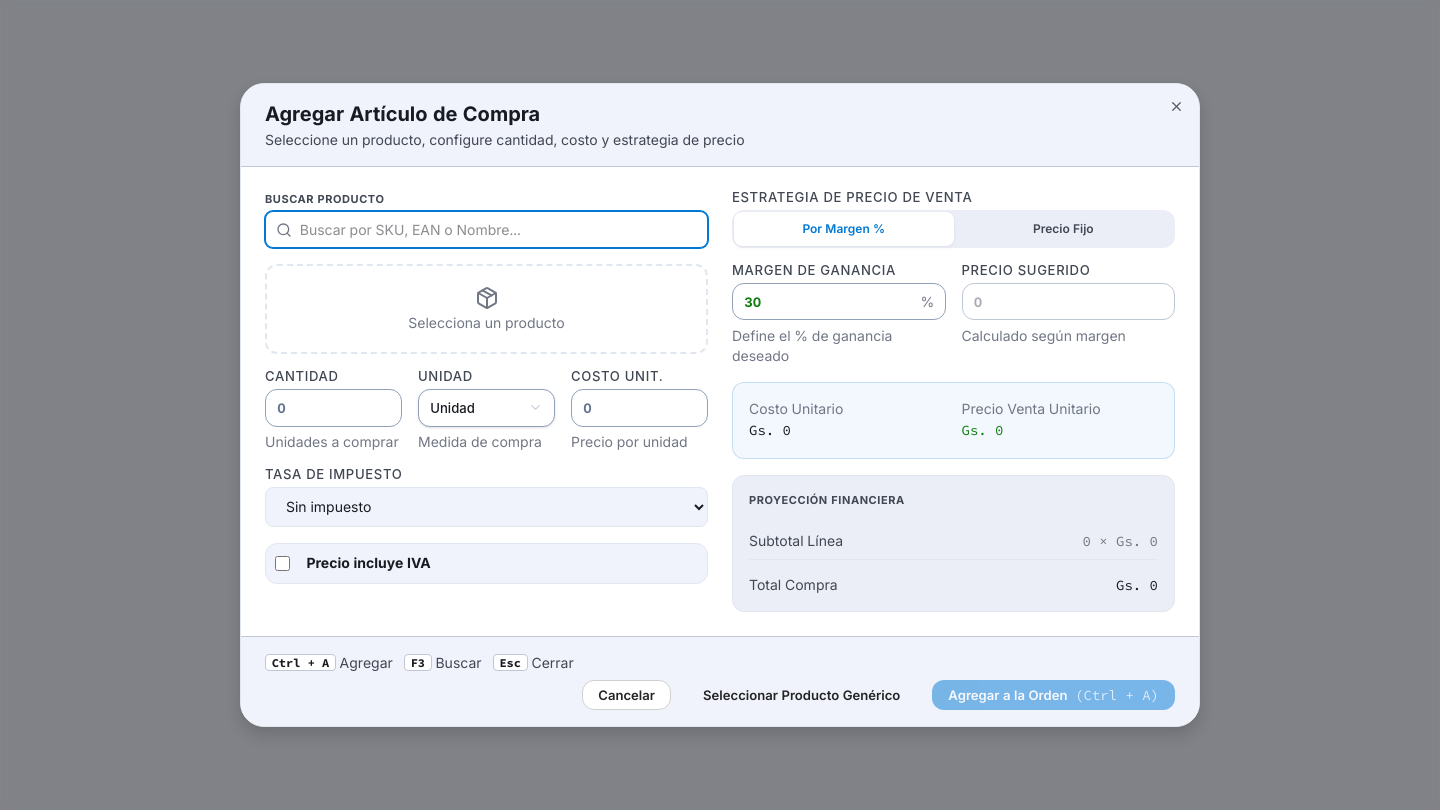
Test case: PurchaseProductModal — formateo de inputs numéricos › cantidad: el punto tecleado es decimal, NO agrupador ("1.5" ≠ 15)
The width and height of the screenshot is (1440, 810).
Type "1" into the field labelled "Cantidad" at [334, 408], box [265, 389, 402, 427]
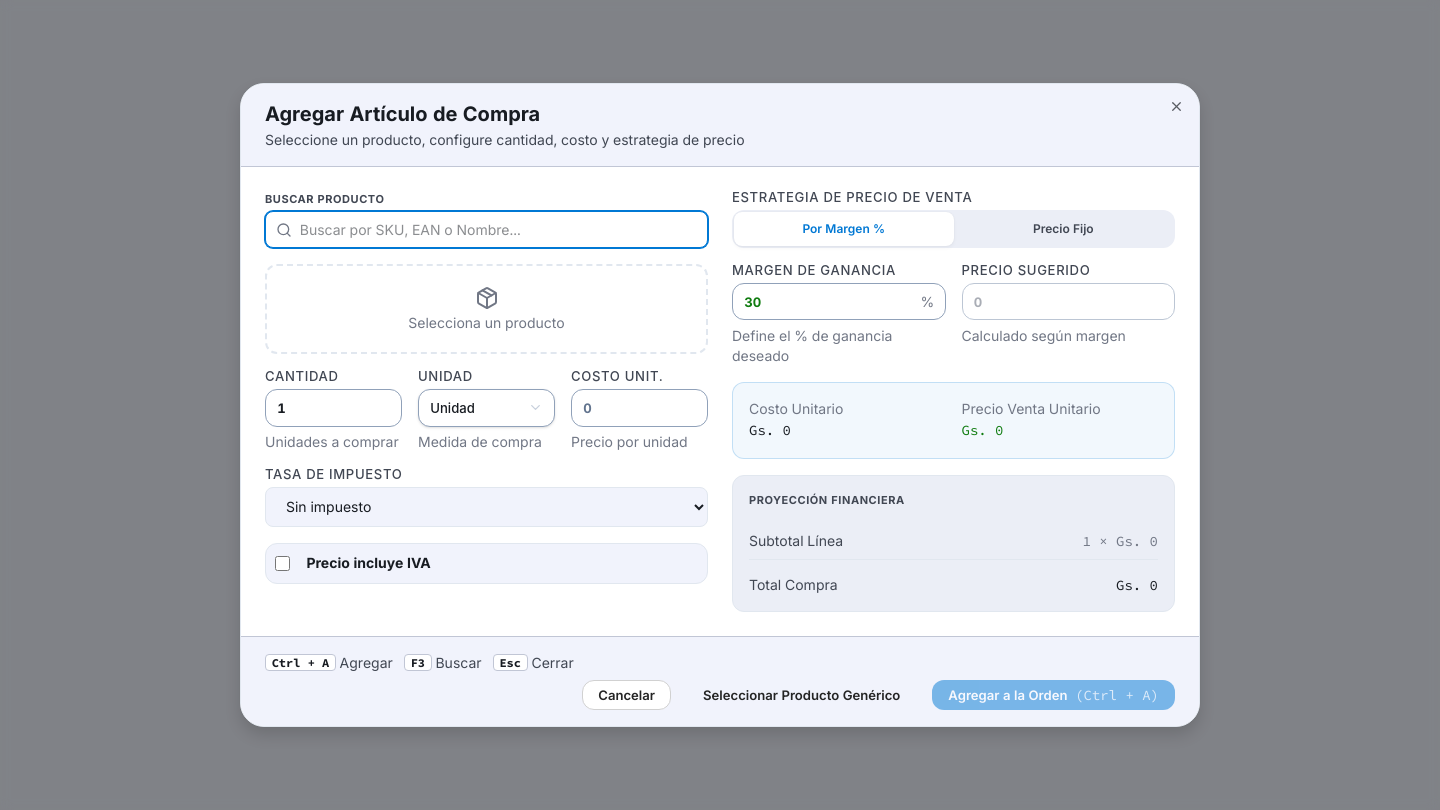
Replace the text in the field labelled "Cantidad" with "1." at [334, 408], box [265, 389, 402, 427]
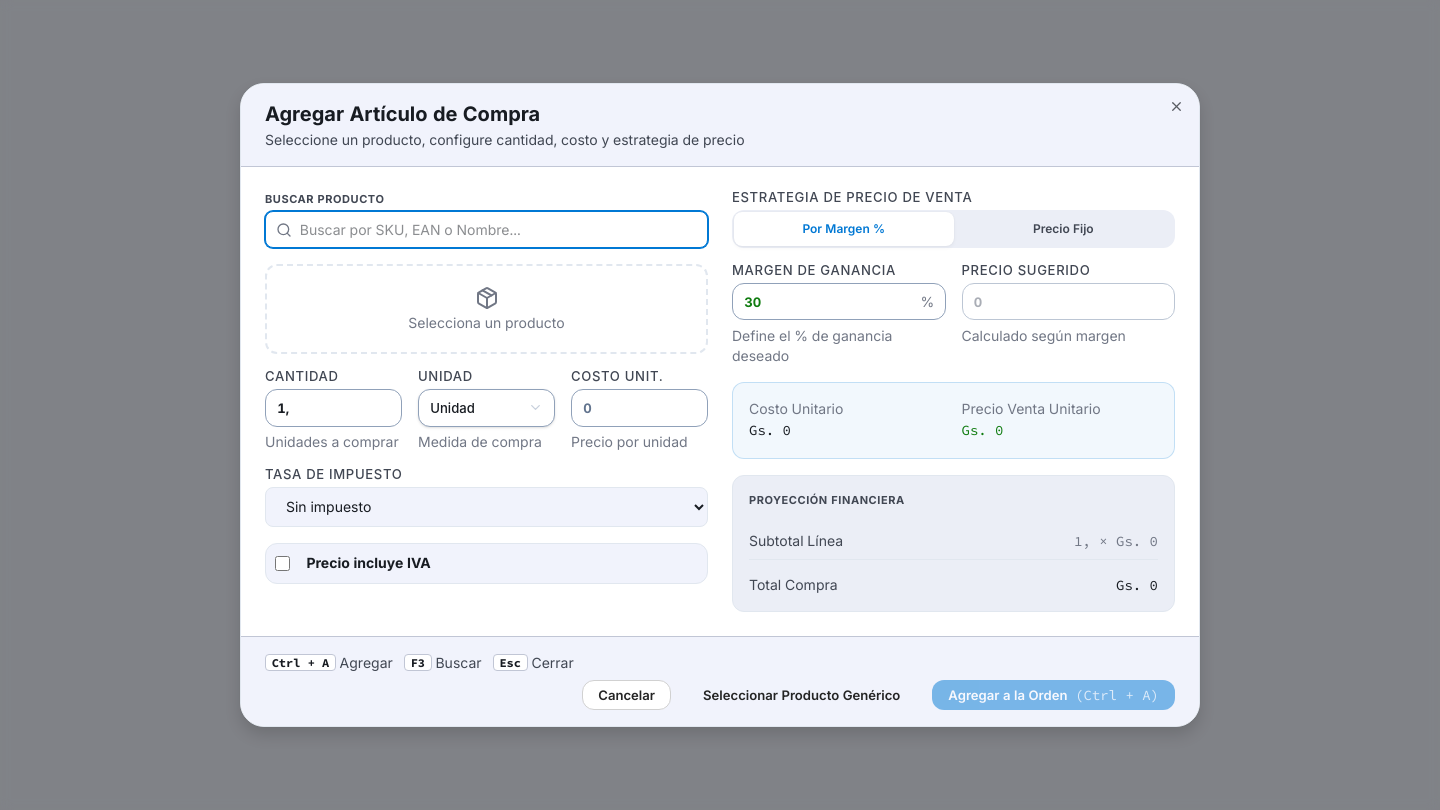
Replace the text in the field labelled "Cantidad" with "1.5" at [334, 408], box [265, 389, 402, 427]
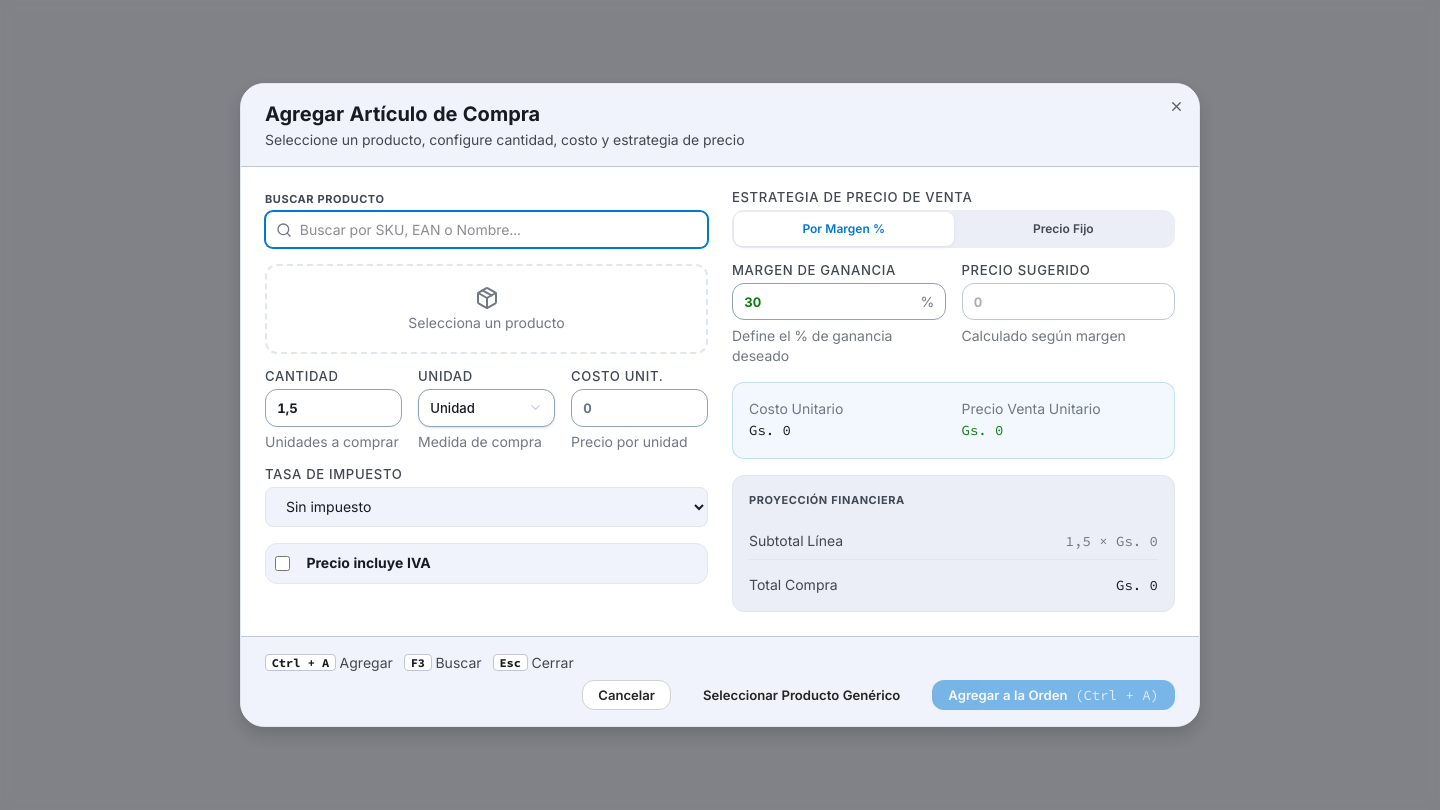
Check: the field labelled "Cantidad" holds "1,5", box [265, 389, 402, 427]
